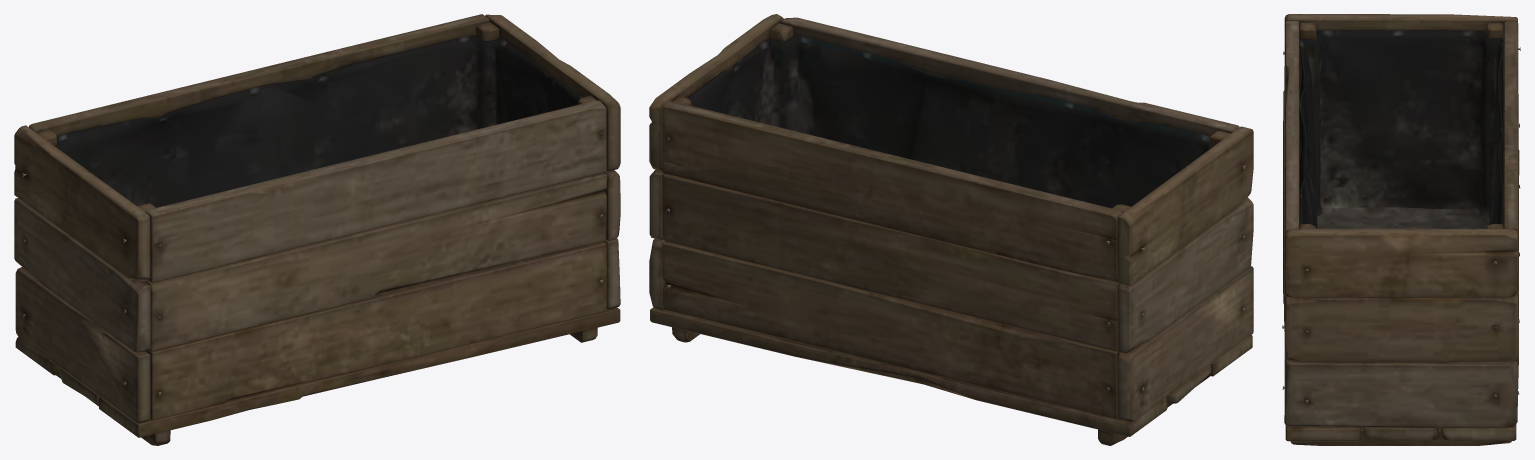
Rendered from planter_box_01.glb.
The picture shows the model from 3 angles, left to right: view 1: azimuth 30°, elevation 25°; view 2: azimuth 150°, elevation 25°; view 3: azimuth 270°, elevation 25°; orthographic projection. The views are drawn at different scales.
Visible parts, largest first — view 1: planter_box_01; view 2: planter_box_01; view 3: planter_box_01.
Part boxes in pixels (x1,y1,x2,y2): planter_box_01: (14,14,620,445); planter_box_01: (649,14,1253,445); planter_box_01: (1282,14,1520,445).
Bounding box in the file's own units: 0.9126 × 0.4249 × 0.4137.
1 material, 1 textured.
